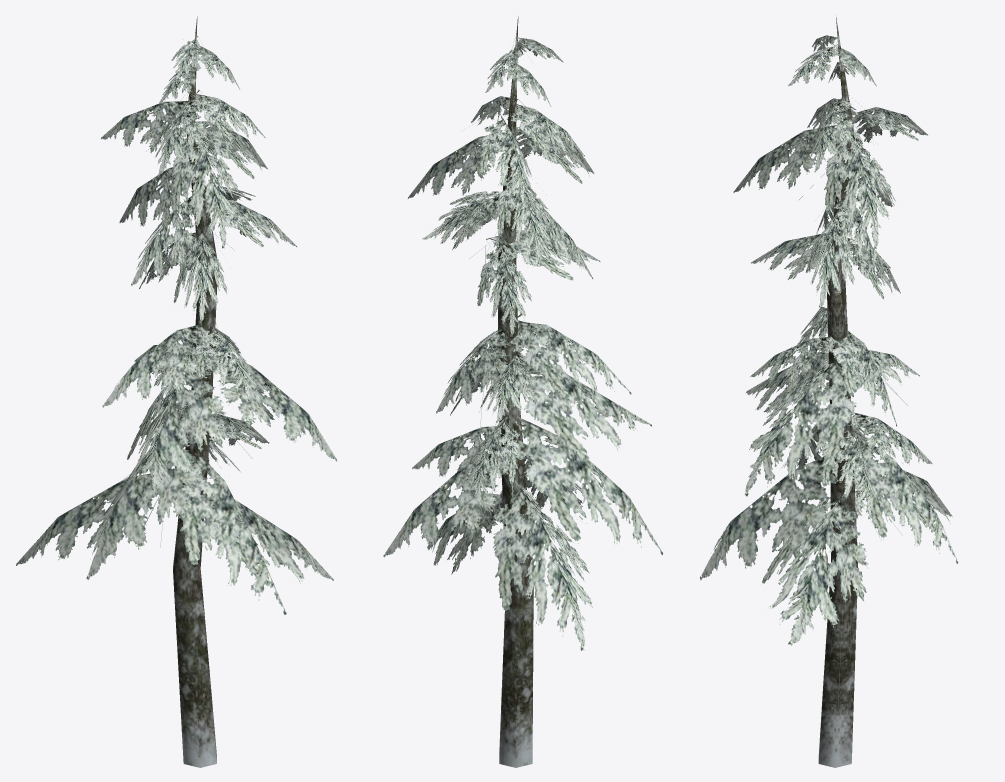
File: S_Tree_White015.FBX
3 views of the same model, side by side, from view 1: azimuth 30°, elevation 25°; view 2: azimuth 150°, elevation 25°; view 3: azimuth 270°, elevation 25° (orthographic).
Parts seen in each view (by area): view 1: S_Tree_White015; view 2: S_Tree_White015; view 3: S_Tree_White015.
Part boxes in pixels (x1,y1,x2,y2): S_Tree_White015: [16, 16, 336, 767]; S_Tree_White015: [383, 16, 663, 767]; S_Tree_White015: [700, 17, 958, 767].
Size of the model in its own units: 403 by 383 by 1057.
